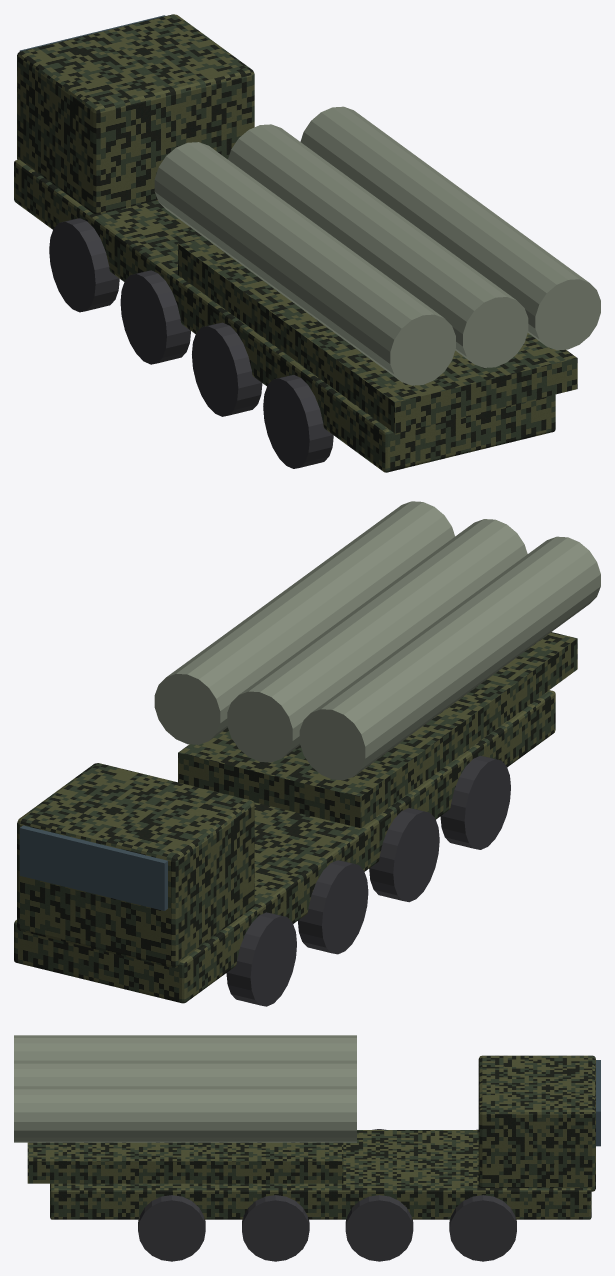
Rendered from type_yj62.glb.
3 views of the same model, one above another, from view 1: azimuth 30°, elevation 25°; view 2: azimuth 150°, elevation 25°; view 3: azimuth 270°, elevation 25° (orthographic). The views are drawn at different scales.
Parts seen in each view (by area): view 1: yj62_cab, yj62_tube0, yj62_chassis, yj62_base, yj62_tube1, yj62_tube2, yj62_wheel_-1_0, yj62_wheel_-1_1, yj62_wheel_-1_3, yj62_wheel_-1_2; view 2: yj62_cab, yj62_tube0, yj62_chassis, yj62_base, yj62_tube2, yj62_tube1, yj62_win, yj62_wheel_-1_3, yj62_wheel_-1_1, yj62_wheel_-1_2, yj62_wheel_-1_0; view 3: yj62_chassis, yj62_tube2, yj62_cab, yj62_base, yj62_tube0, yj62_tube1, yj62_wheel_1_1, yj62_wheel_1_2, yj62_wheel_1_3, yj62_wheel_1_0, yj62_win.
Part boxes in pixels (box(x1,y1,x2,y2)): yj62_cab: box(17, 14, 254, 214); yj62_tube0: box(154, 142, 455, 385); yj62_chassis: box(14, 159, 555, 472); yj62_base: box(178, 237, 577, 433); yj62_tube1: box(228, 124, 528, 367); yj62_tube2: box(300, 106, 600, 350); yj62_wheel_-1_0: box(49, 218, 119, 312); yj62_wheel_-1_1: box(120, 270, 190, 364); yj62_wheel_-1_3: box(263, 375, 333, 468); yj62_wheel_-1_2: box(192, 322, 262, 416); yj62_cab: box(17, 763, 254, 967); yj62_tube0: box(299, 536, 600, 780); yj62_chassis: box(14, 690, 555, 1003); yj62_base: box(178, 632, 577, 827); yj62_tube2: box(154, 501, 454, 744); yj62_tube1: box(227, 519, 527, 762); yj62_win: box(19, 825, 167, 910); yj62_wheel_-1_3: box(440, 755, 510, 849); yj62_wheel_-1_1: box(298, 860, 368, 954); yj62_wheel_-1_2: box(369, 808, 439, 902); yj62_wheel_-1_0: box(226, 912, 296, 1006); yj62_chassis: box(50, 1130, 591, 1219); yj62_tube2: box(14, 1086, 356, 1142); yj62_cab: box(478, 1055, 595, 1191); yj62_base: box(27, 1142, 343, 1183); yj62_tube0: box(14, 1035, 356, 1060); yj62_tube1: box(14, 1061, 356, 1086); yj62_wheel_1_1: box(345, 1195, 413, 1261); yj62_wheel_1_2: box(242, 1195, 309, 1261); yj62_wheel_1_3: box(138, 1195, 205, 1261); yj62_wheel_1_0: box(449, 1195, 516, 1261); yj62_win: box(596, 1060, 600, 1146).
Size of the model in its own units: 3.92 by 3.97 by 13.01.
4 materials, 1 textured.
